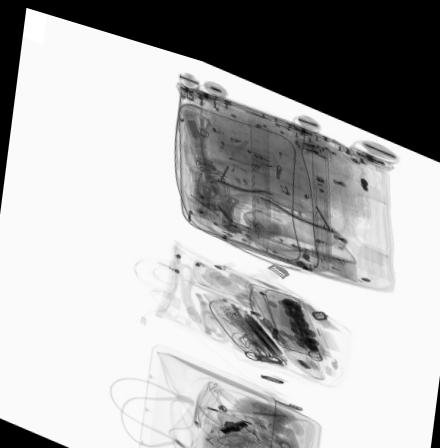Lighter: (206, 189, 231, 201)
